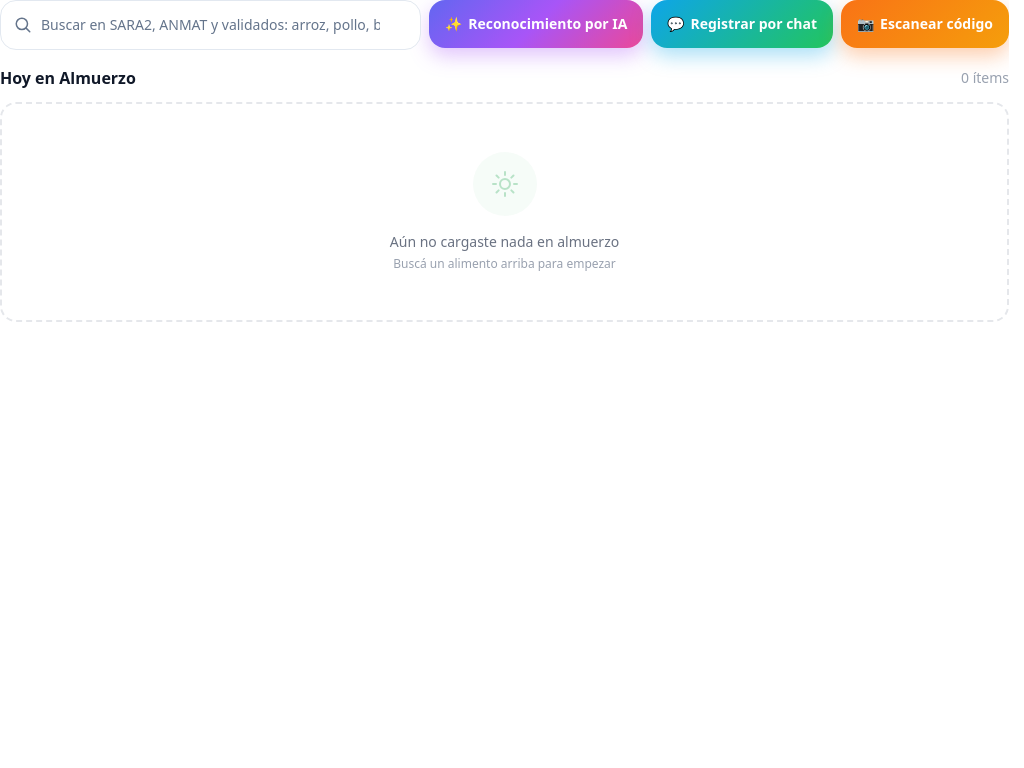
Test case: Buscador de alimentos — integración ANMAT + SARA2 › denominación inline › al seleccionar, la tarjeta del alimento elegido muestra la denominación completa
Type "ace" into the field.
click(211, 25); type("ace")  # box [0, 0, 421, 50]
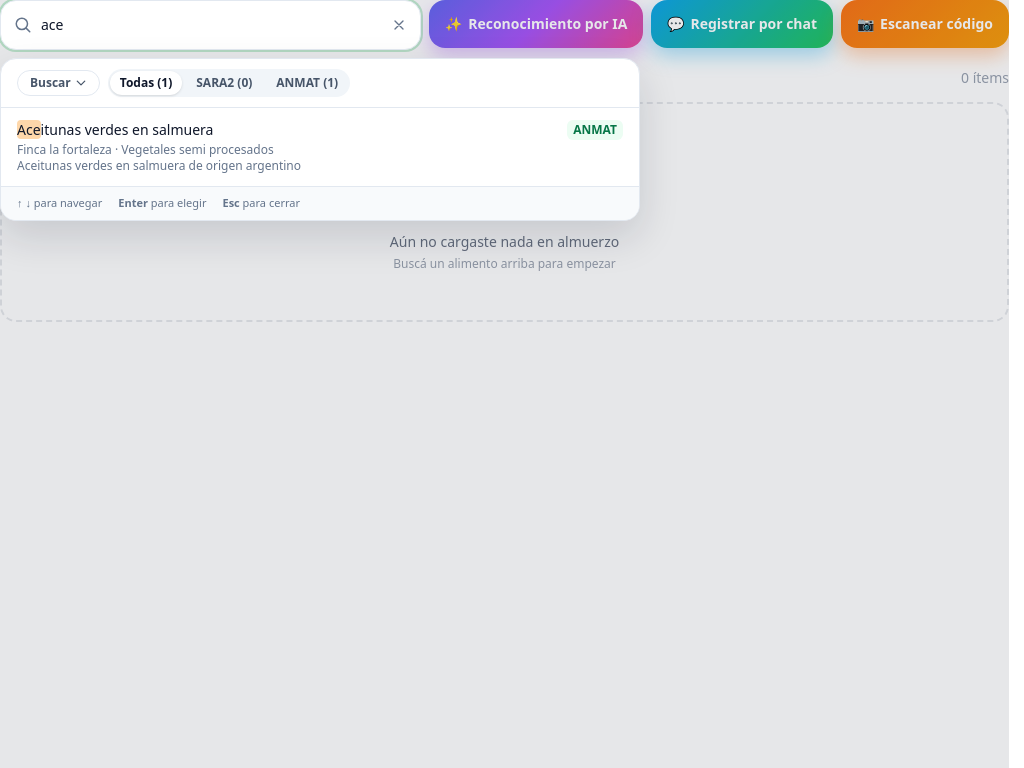
Click the element showing "Aceitunas verdes en salmuera".
click(115, 130)  # box [17, 120, 214, 139]
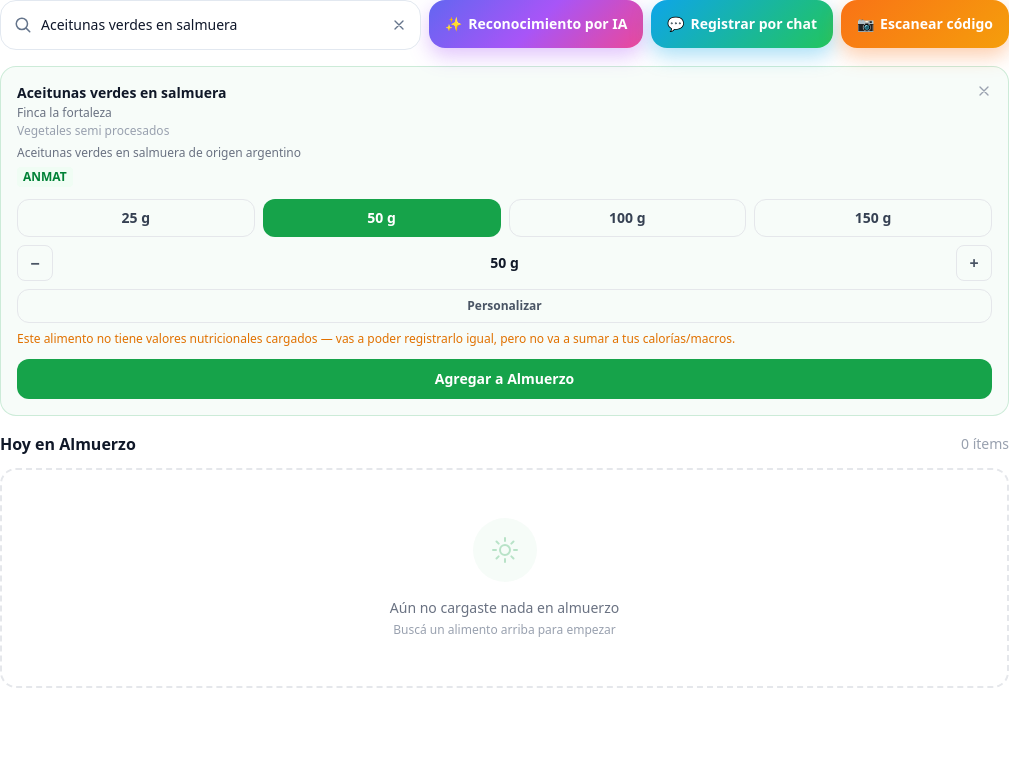
Result: the text "Aceitunas verdes en salmuera de origen argentino" is shown at [17, 143, 301, 162]
Result: the option is gone
